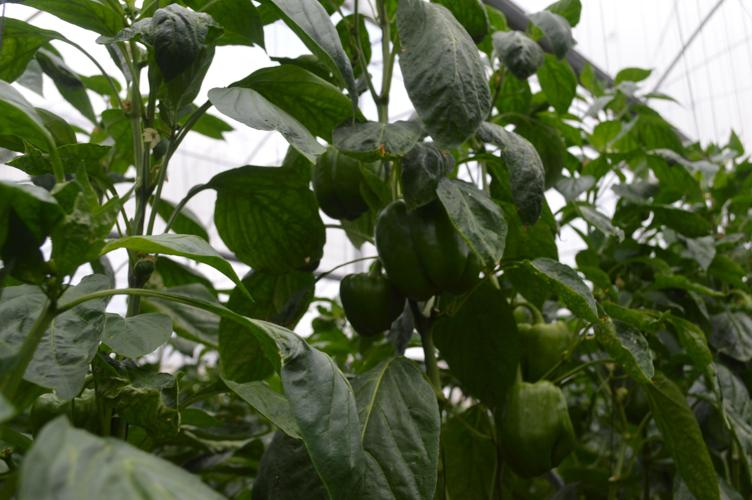BellPepper: (373, 197, 486, 299), (495, 382, 576, 478), (307, 147, 373, 222), (335, 274, 405, 335), (509, 316, 572, 378)
